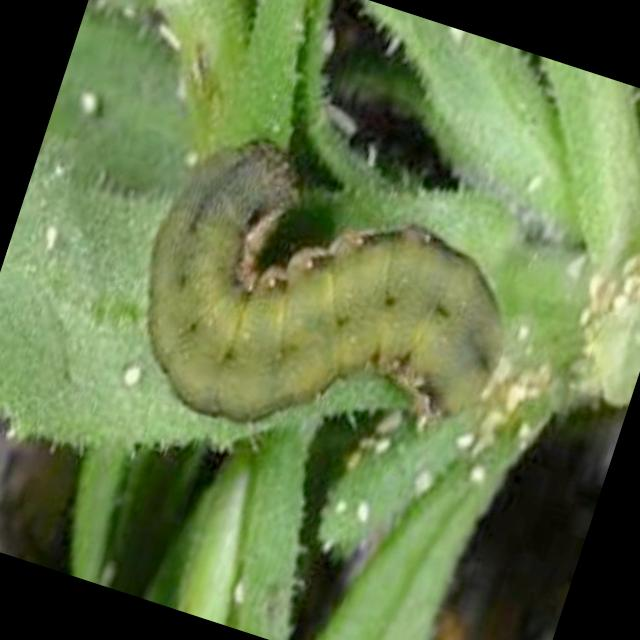Beet armyworm: (47, 39, 623, 592)
